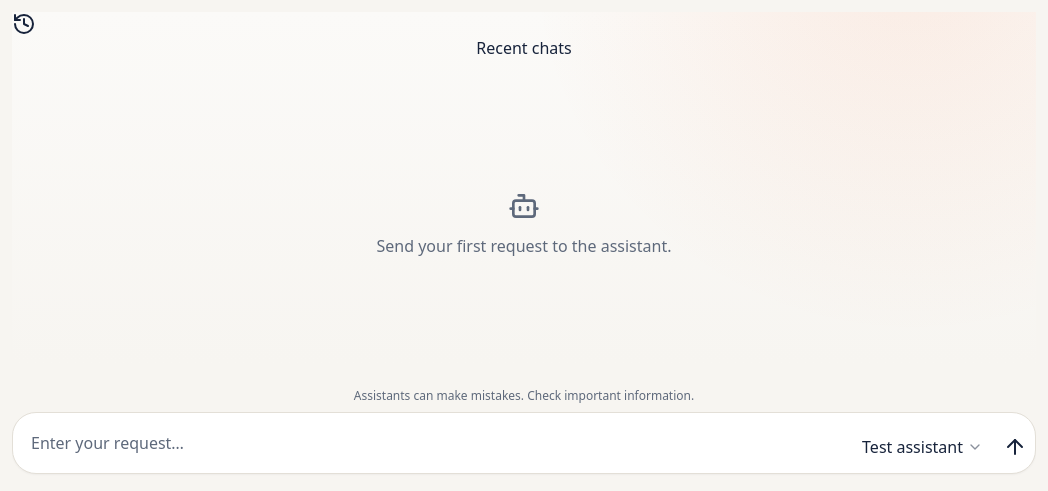
Test: PlaygroundPage › shows a useful Problem action even when streaming never starts
Expected: the text "Test assistant" is shown, left=862, top=435, right=963, bottom=459
In the text box named "Message": (432, 443) left=21, top=421, right=842, bottom=465, type "Hello"
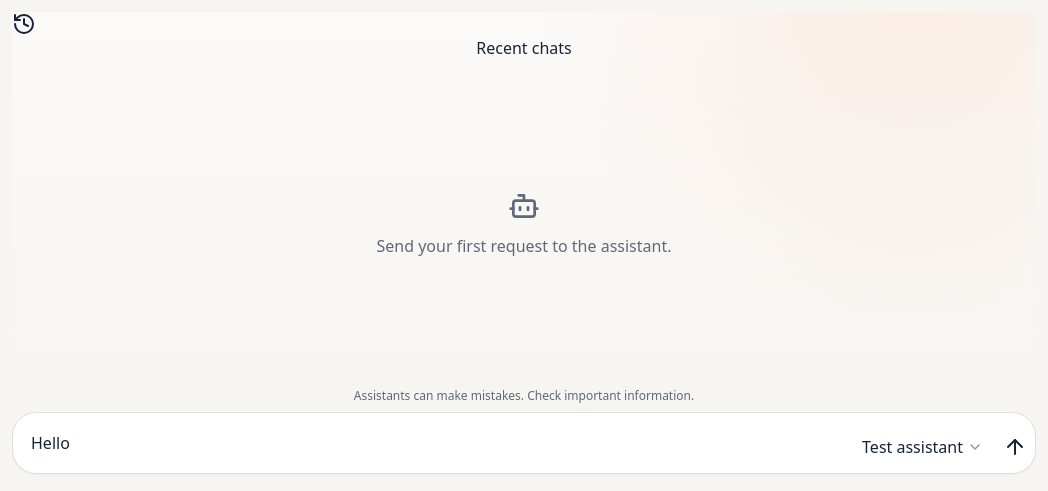
Click the button named "Send": click(1015, 447) left=1003, top=435, right=1027, bottom=459
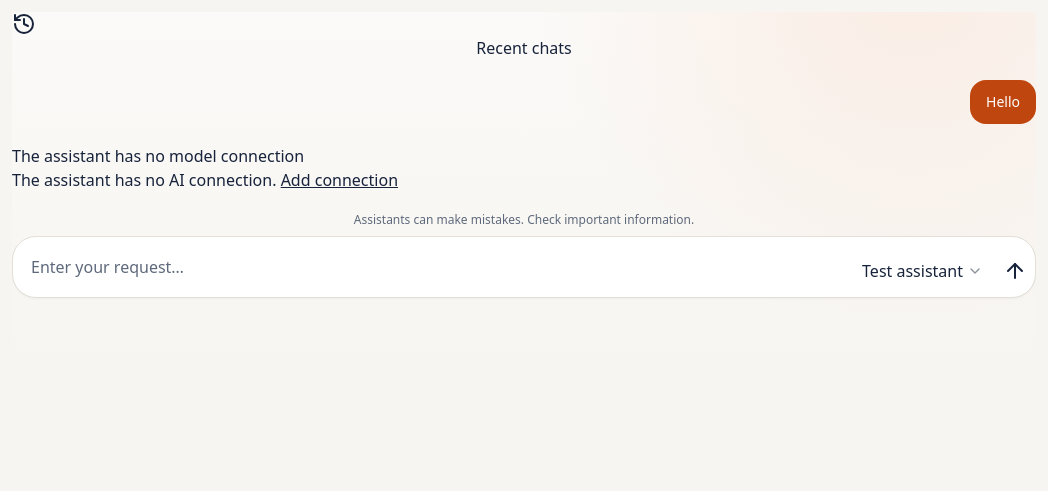
Now the text "The assistant has no AI connection." is shown, box left=12, top=169, right=276, bottom=191
